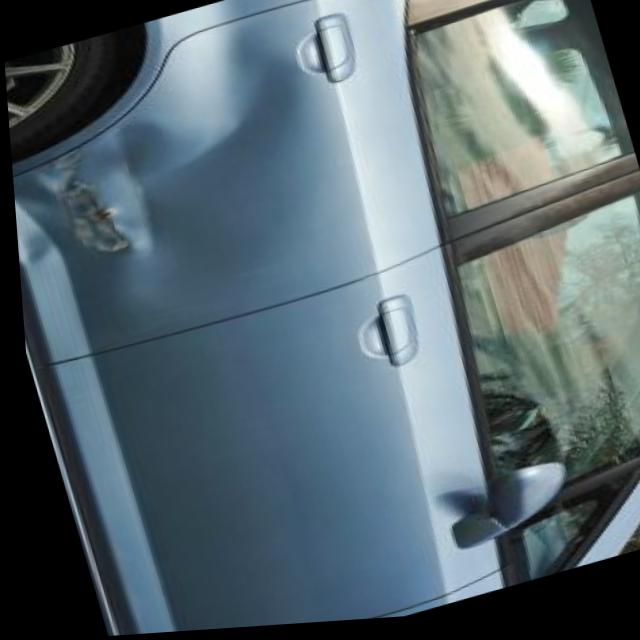Dent: (35, 80, 322, 331)
